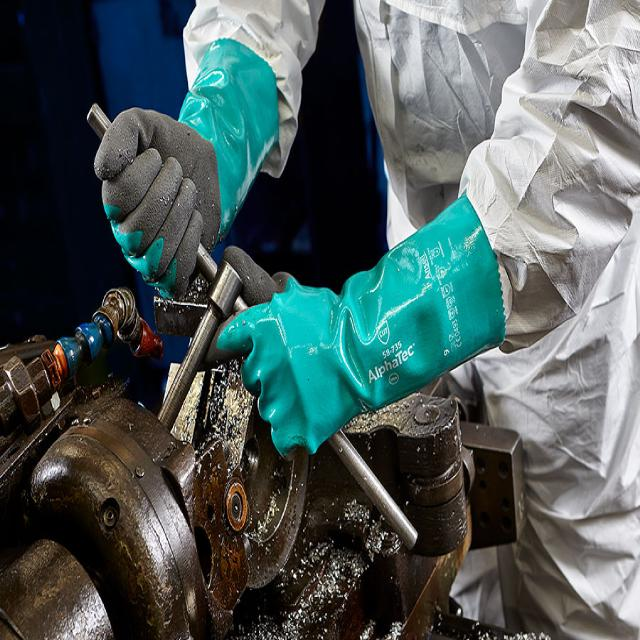gloves: (216, 187, 508, 456), (89, 32, 282, 294)
